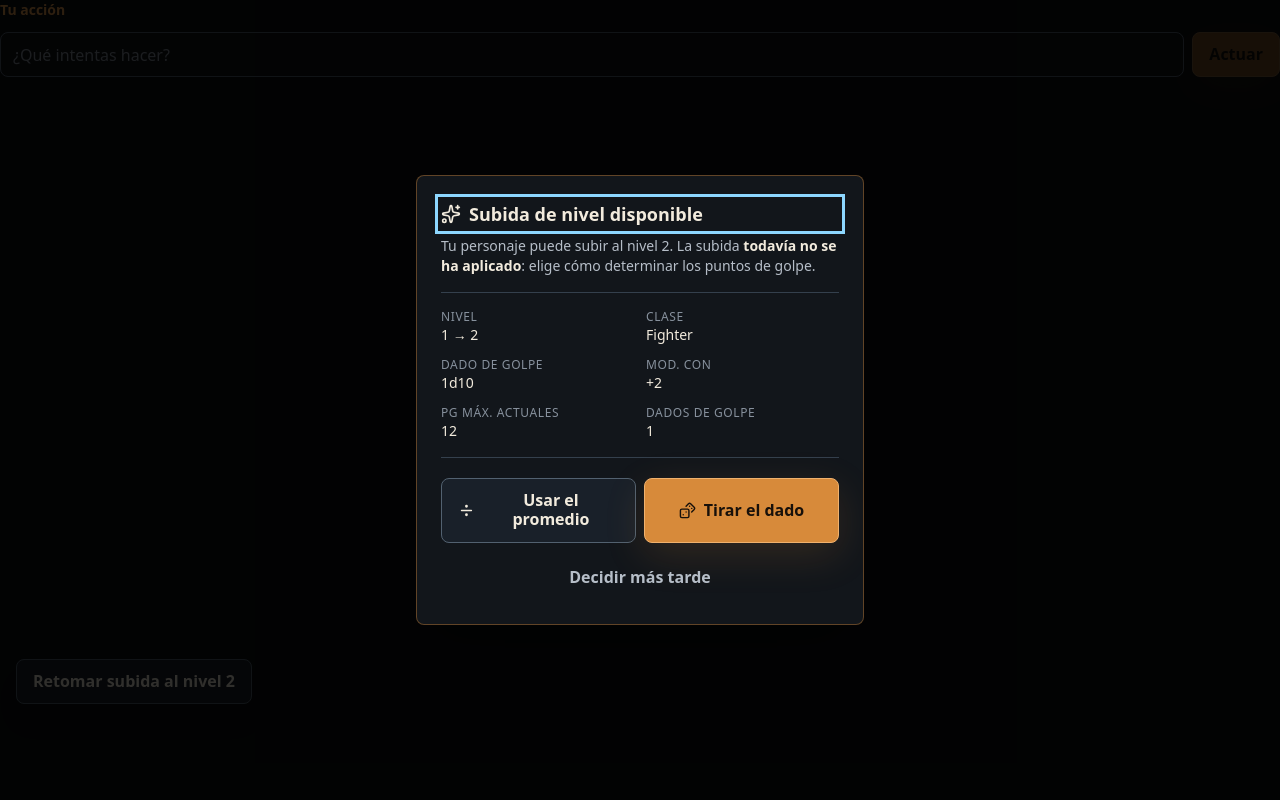
Test case: H. Flujo integrado UI › H1. available → choose → POST → applied → celebration, without mixing payloads
Note: The player chooses, 4) the server applies.
Click the button "Tirar el dado": (742, 510) [644,478,839,543]
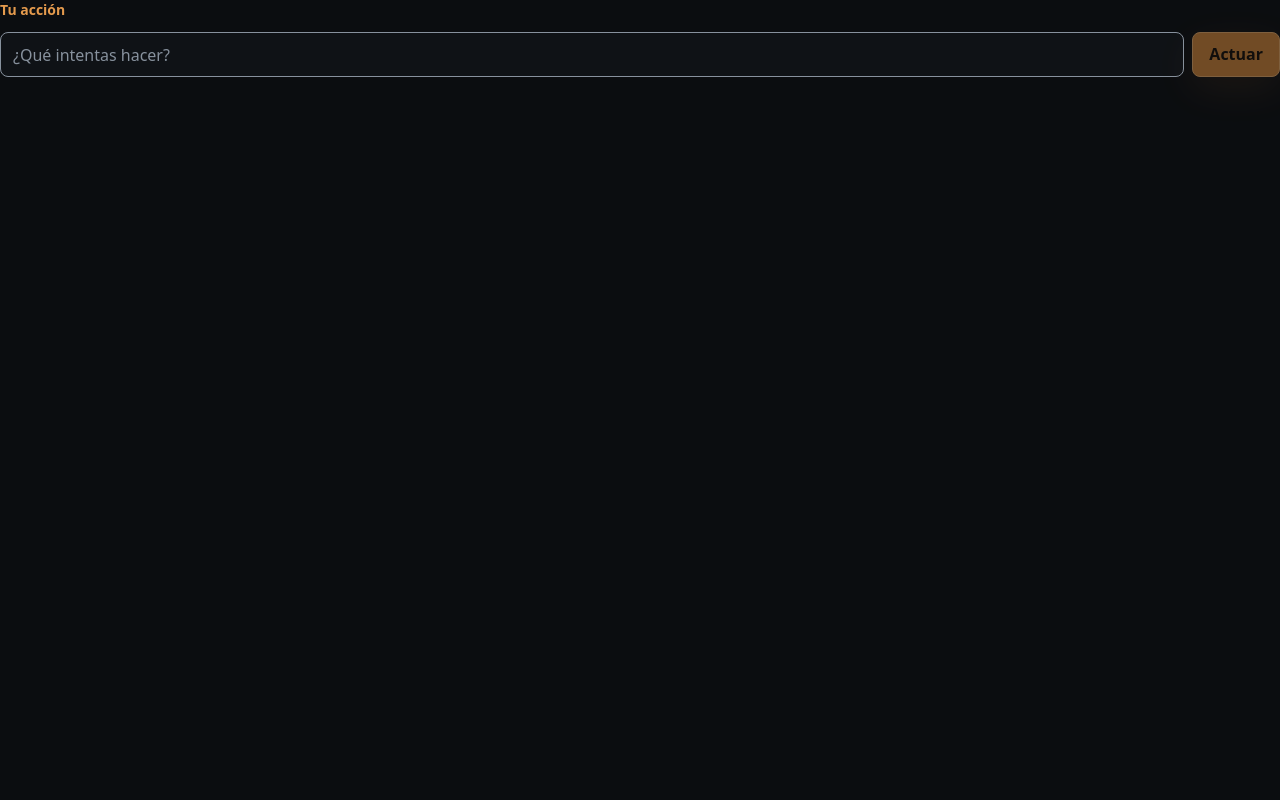
Now the dialog is gone
